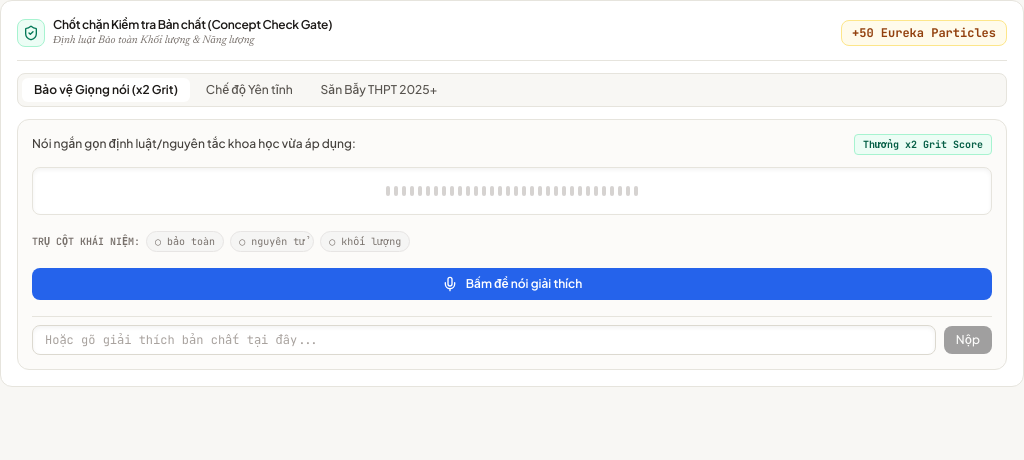
Test: does not pass a concept gate without server verification
Type "bảo toàn nguyên tử khối lượng" into the field with test id "concept-input-fallback". click: coordinates (484, 340)
box: x1=32 y1=324 x2=936 y2=354
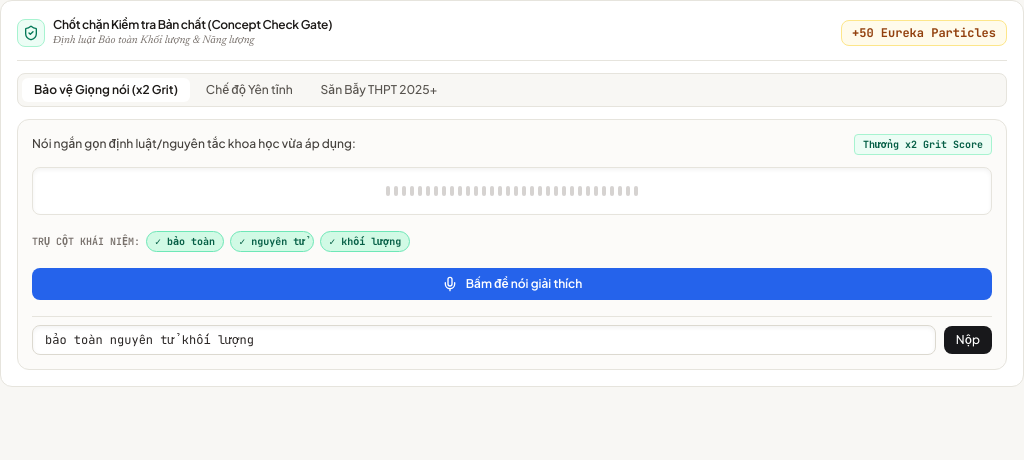
Click the button with test id "btn-verify-explanation". click: coordinates (968, 340)
box: x1=944 y1=326 x2=992 y2=354
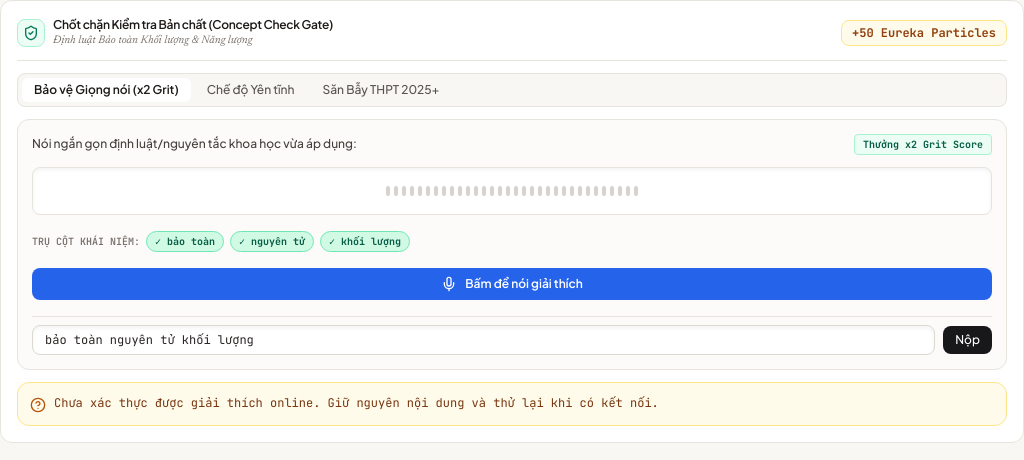
expect the element with test id "concept-feedback" shows "Chưa xác thực": met, box x1=54 y1=394 x2=659 y2=410
